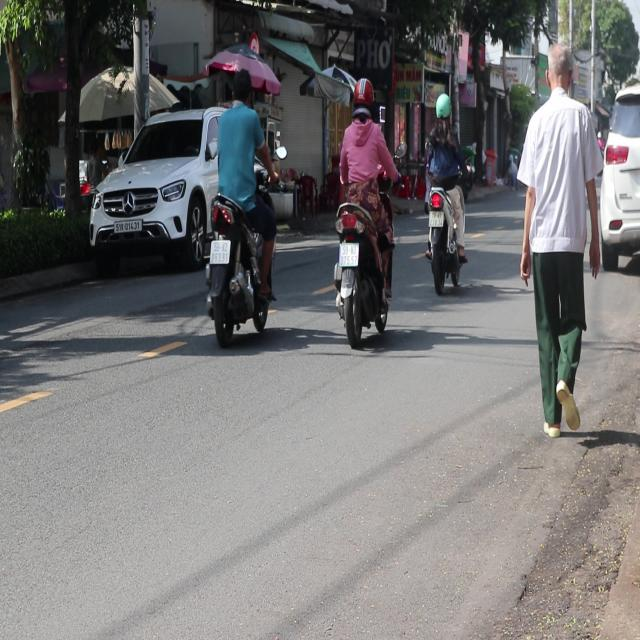helmet: (350, 76, 374, 120), (433, 92, 452, 126)
licenseplate: (204, 65, 278, 344), (330, 74, 399, 346), (421, 90, 469, 292)
motorcyclist: (229, 67, 252, 107)
nohelmet: (338, 242, 358, 267), (210, 239, 230, 262), (429, 212, 443, 228)
